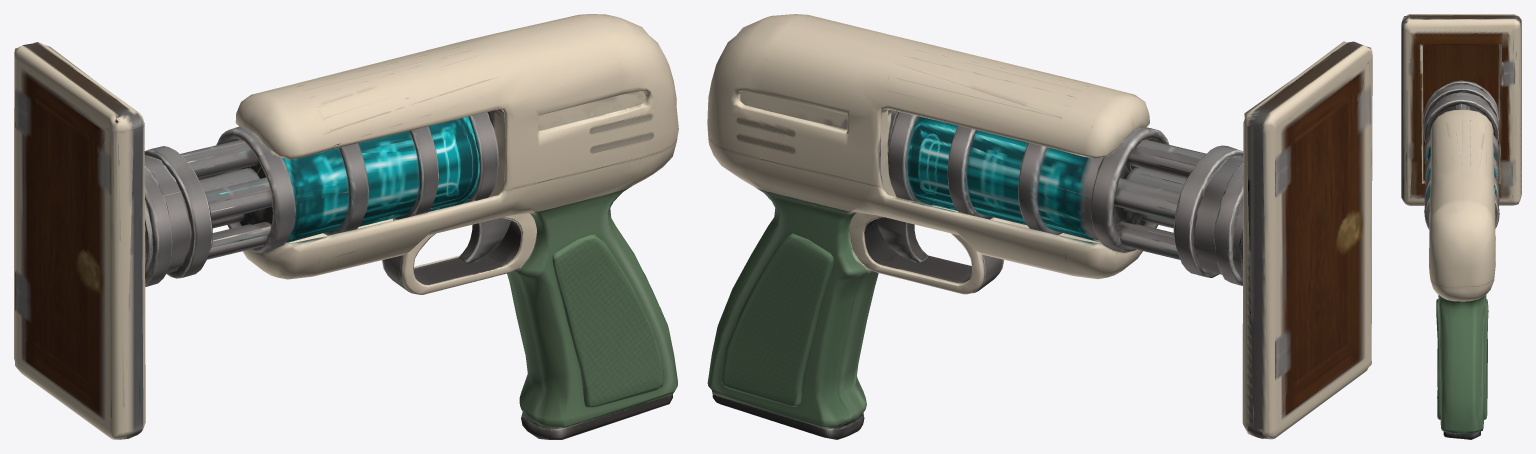
Rendered from Meshy_AI__0916054803_texture.glb.
3 views of the same model, side by side, from view 1: azimuth 30°, elevation 25°; view 2: azimuth 150°, elevation 25°; view 3: azimuth 270°, elevation 25° (orthographic). The views are drawn at different scales.
Size of the model in its own units: 1 by 0.7441 by 0.3037.
1 material, 1 textured.
